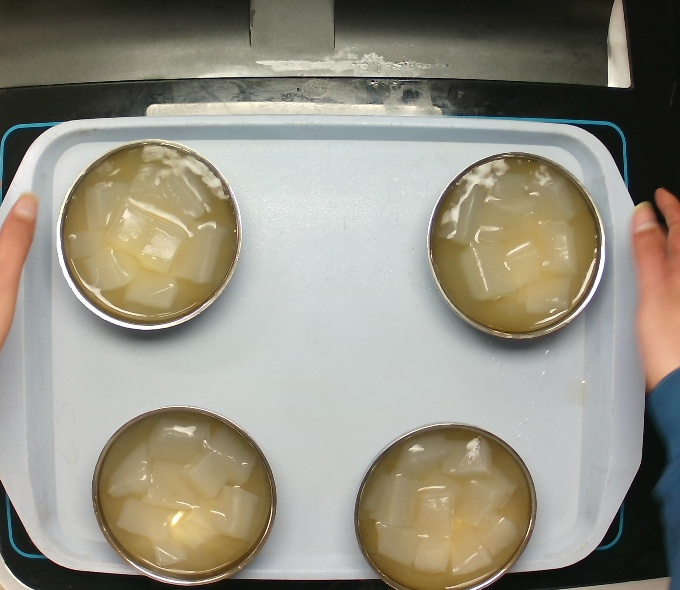wcq-YeGuoLi: (409, 141, 623, 350), (55, 140, 249, 327), (92, 400, 281, 587), (354, 417, 539, 587)
